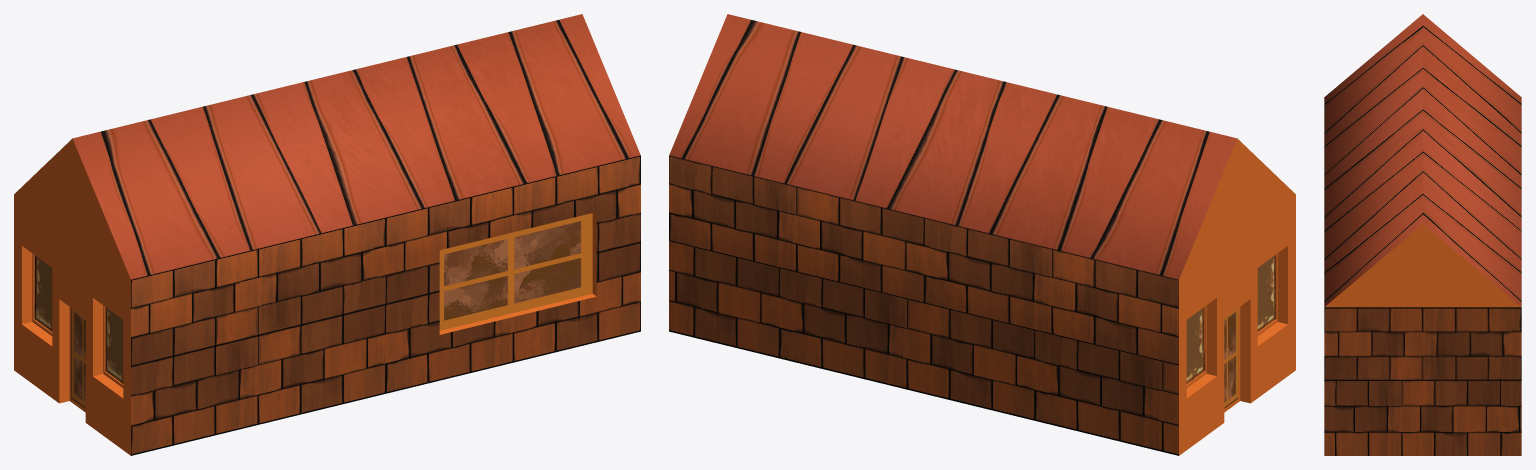
The model's file is Depaul_Building_1.fbx.
The picture shows the model from 3 angles, left to right: view 1: azimuth 30°, elevation 25°; view 2: azimuth 150°, elevation 25°; view 3: azimuth 270°, elevation 25°; orthographic projection. The views are drawn at different scales.
Visible parts, largest first — view 1: House3; view 2: House3; view 3: House3.
Boxes of the visible parts, bbox=[...] form: House3: bbox=[14, 14, 640, 455]; House3: bbox=[669, 14, 1295, 455]; House3: bbox=[1324, 14, 1521, 455].
Size of the model in its own units: 417 by 215 by 166.
